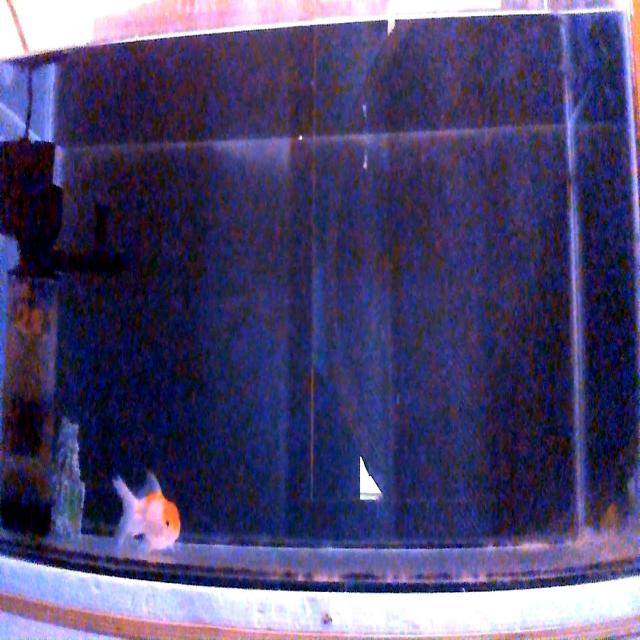fish: (113, 471, 180, 551)
